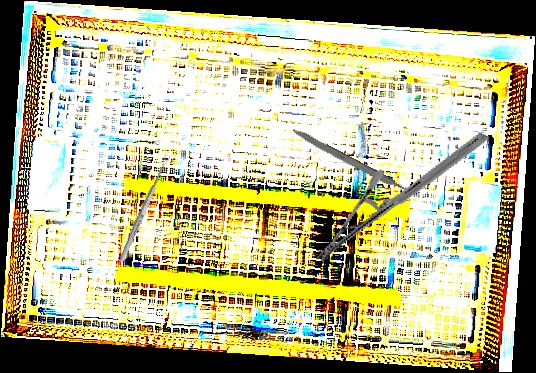Needle Holder: (314, 91, 490, 304)
Scalpel Handle: (290, 127, 410, 196)
Surgical Spoon: (117, 153, 172, 264)
